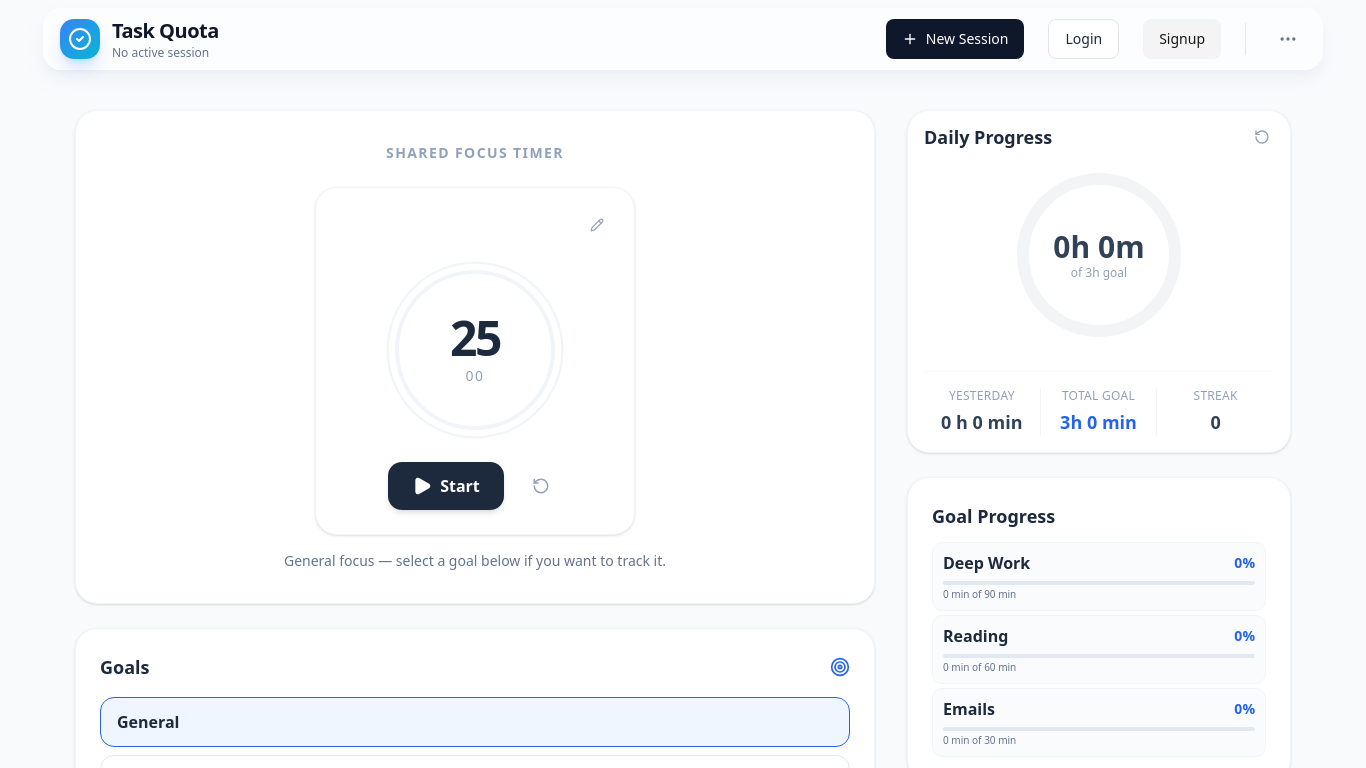
App Component › Settings Menu › should close settings menu when X button is clicked
The width and height of the screenshot is (1366, 768).
Step 1. Click the button named "Open settings" → (1288, 39), box [1270, 21, 1306, 57]
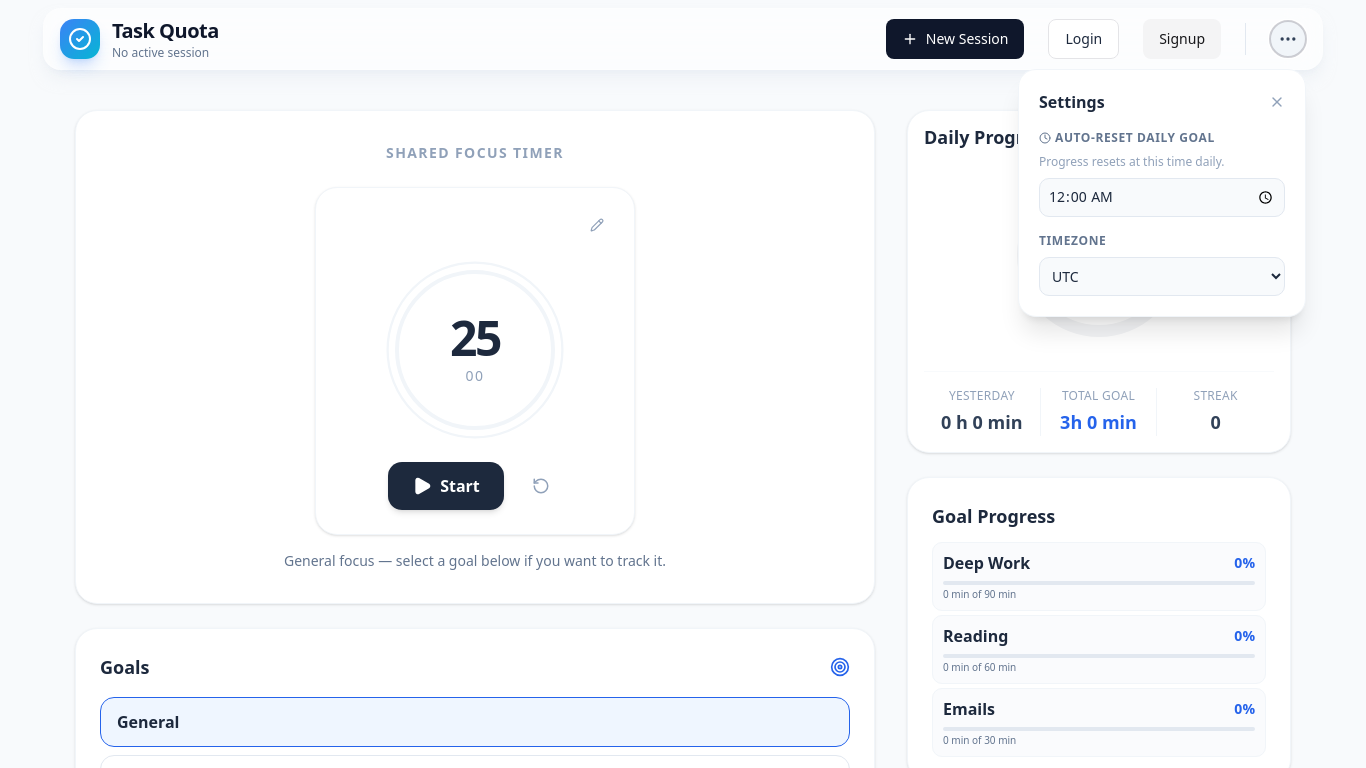
Expected: the heading "Settings" is shown, [1039, 90, 1105, 114]
Step 2. Click the button without text in the row of "Settings" → (1277, 102), box [1269, 94, 1285, 110]
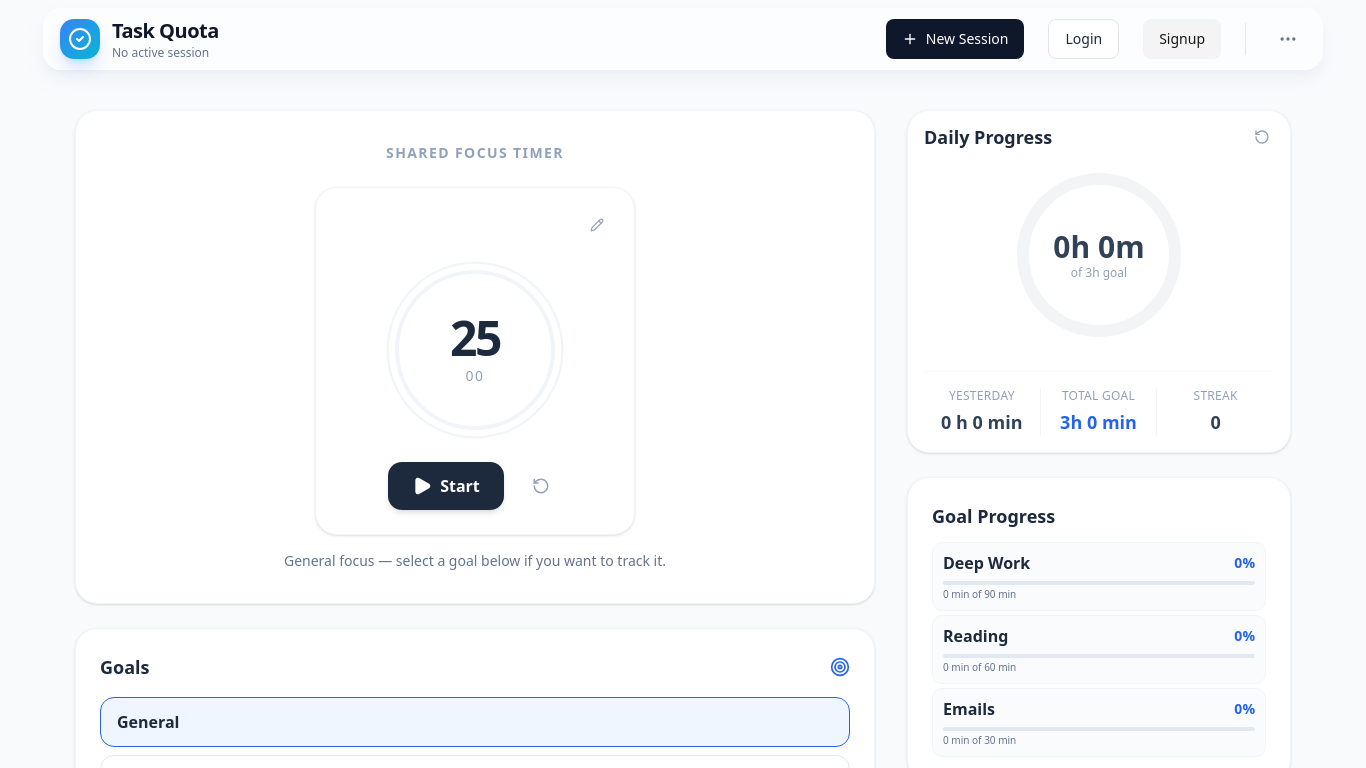
Expected: the heading "Settings" is gone
